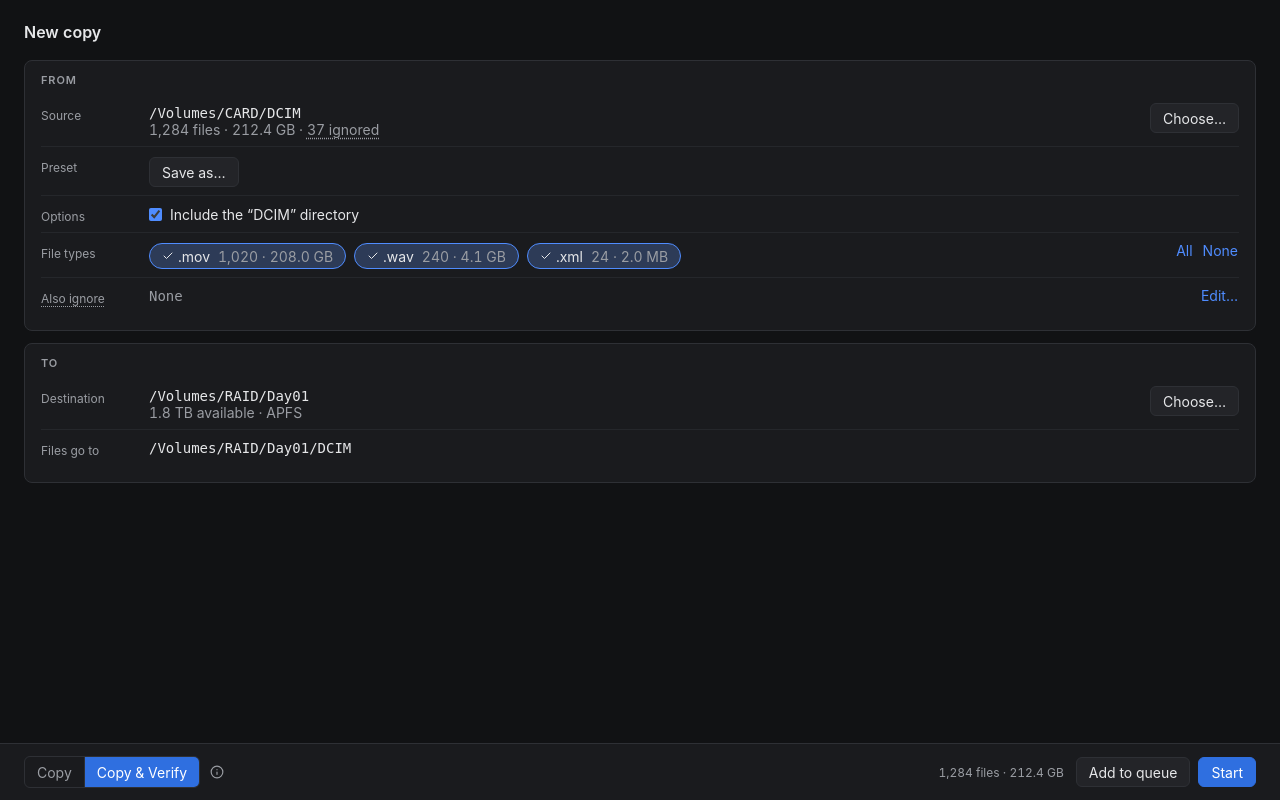
it: Setup › a preset that can't be saved says why
What coordinates should you click on to do the following:
click the button "Save as…"
I would click on:
 (194, 172)
Its box is 149,157 -> 238,187.
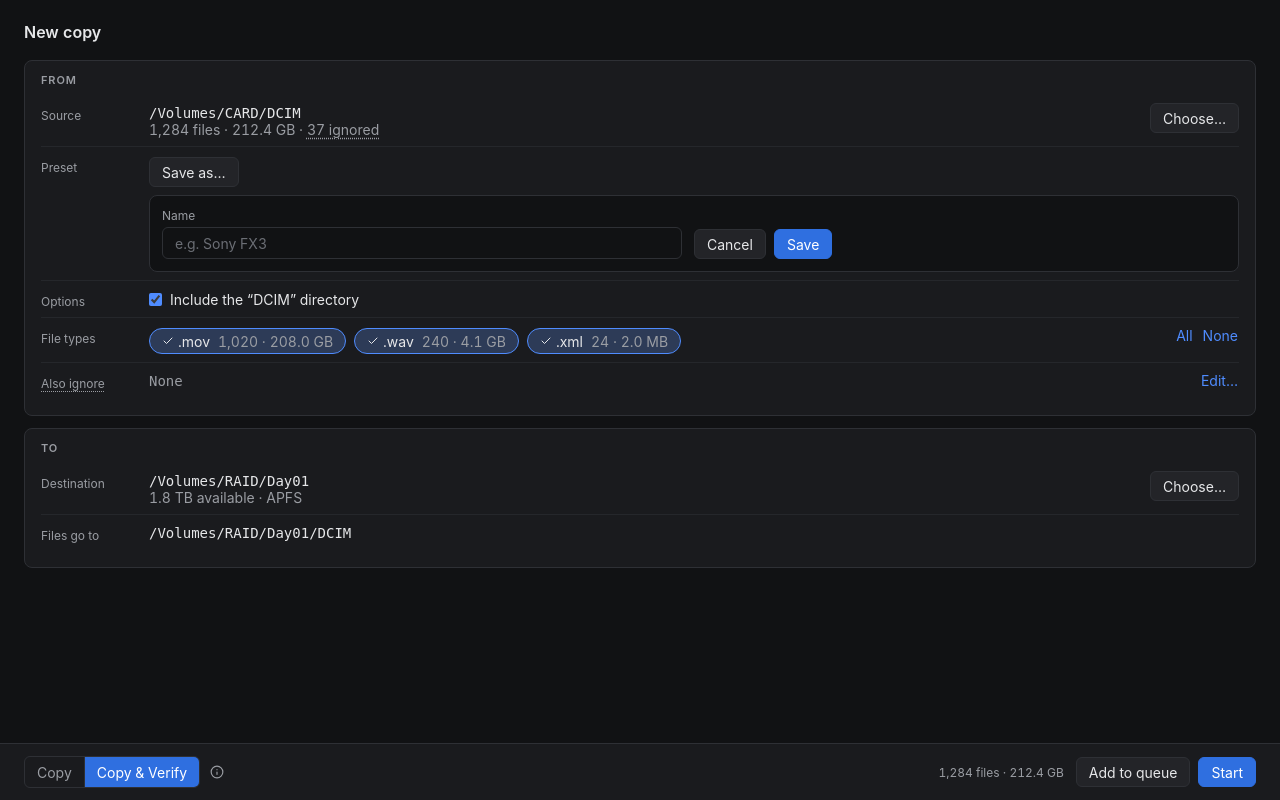
What coordinates should you click on to do the following:
click the button "Save"
I would click on:
 (803, 244)
Its box is 774,229 -> 832,259.
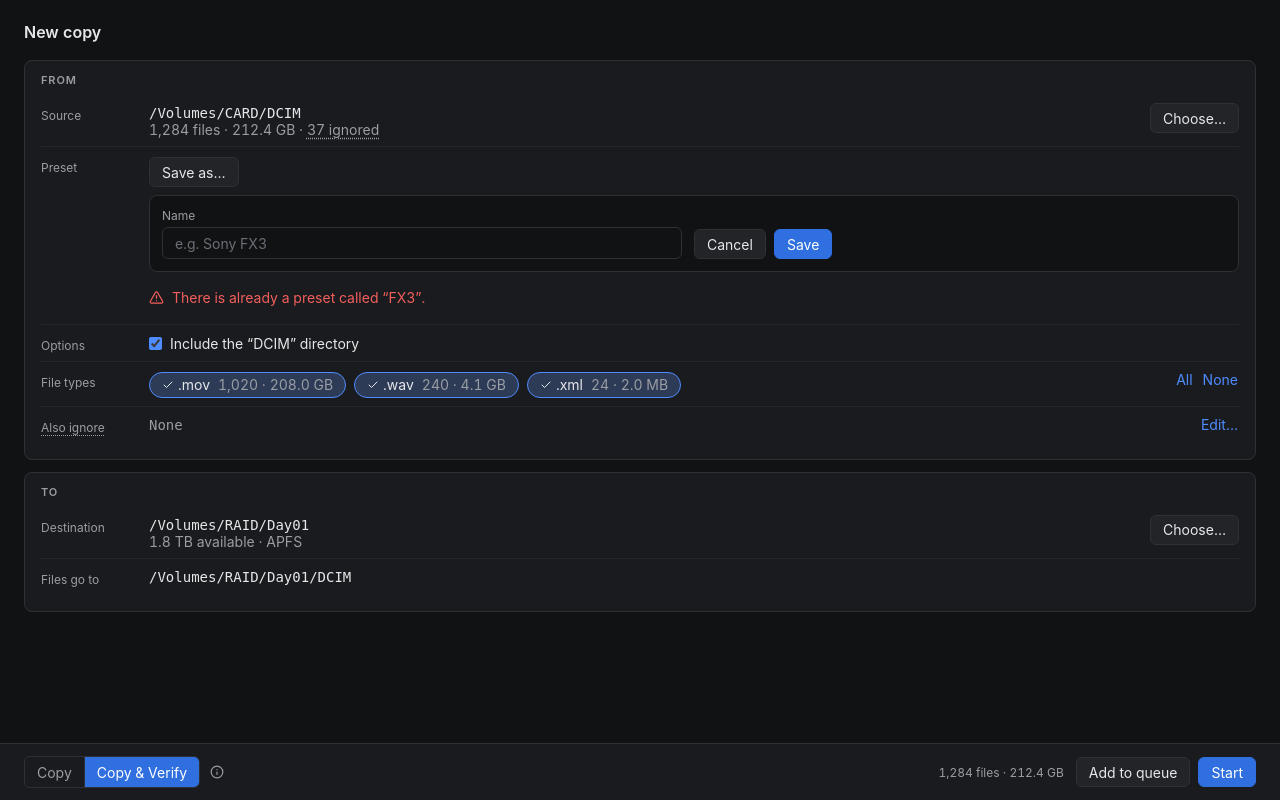
Check: the text "There is already a preset called “FX3”." is shown, box 172,288 -> 425,308
